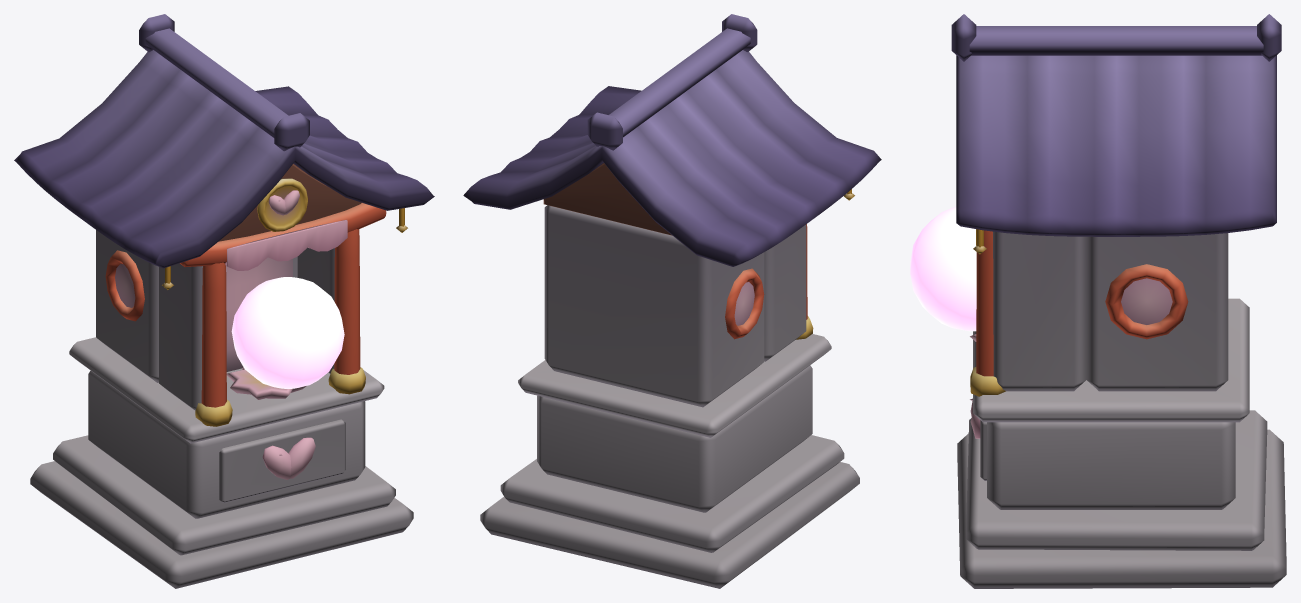
The model's file is shrine-goodboy.glb.
The picture shows the model from 3 angles, left to right: view 1: azimuth 30°, elevation 25°; view 2: azimuth 150°, elevation 25°; view 3: azimuth 270°, elevation 25°; orthographic projection. The views are drawn at different scales.
Visible parts, largest first — view 1: base, orb; view 2: base; view 3: base, orb.
Boxes of the visible parts, x1=… form: base: x1=14, y1=14, x2=434, y2=588; orb: x1=231, y1=277, x2=344, y2=388; base: x1=463, y1=14, x2=881, y2=588; base: x1=951, y1=14, x2=1286, y2=588; orb: x1=910, y1=207, x2=976, y2=331.
Bounding box in the file's own units: 1.02 × 1.57 × 1.06.
